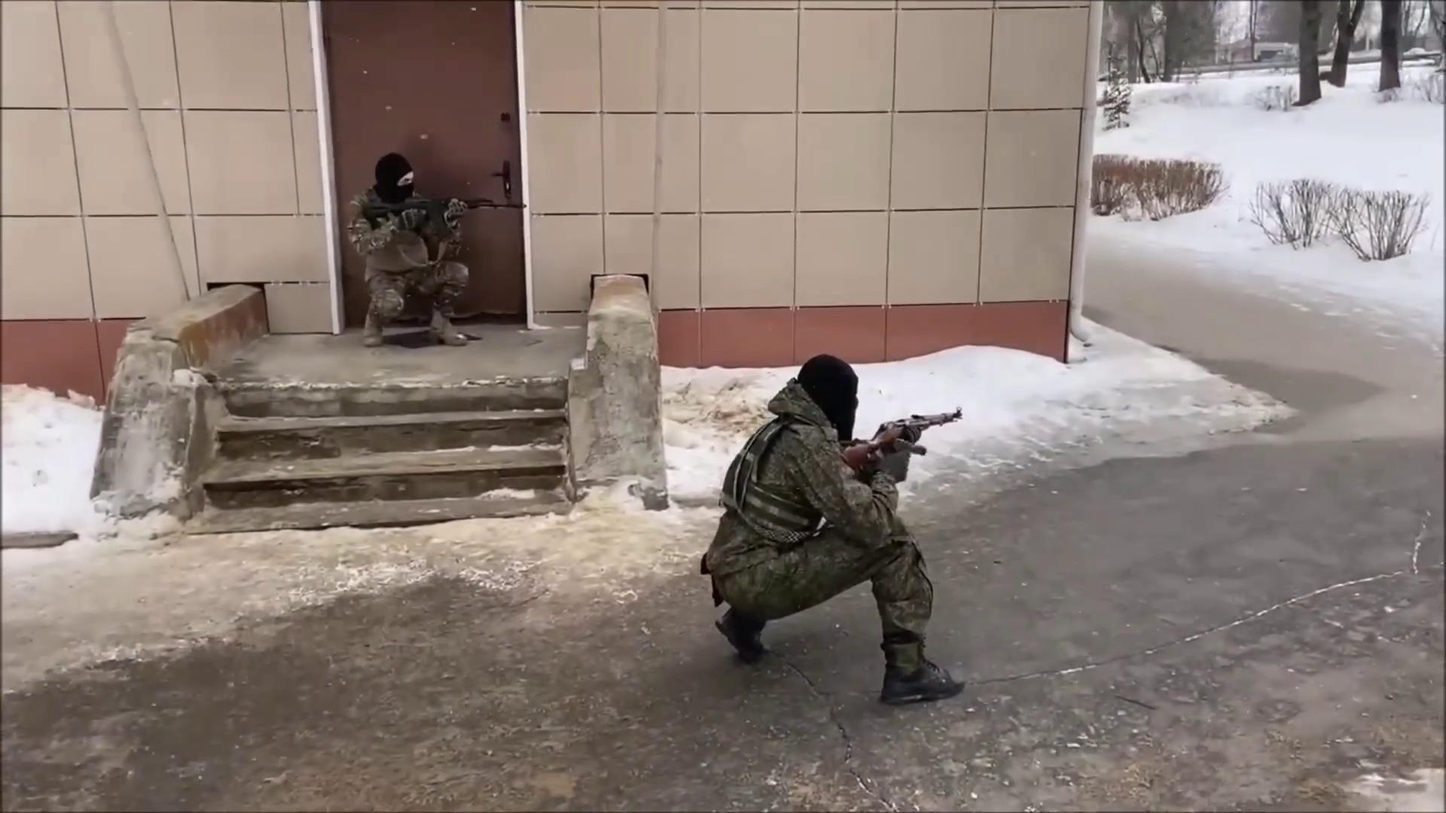person: (699, 352, 969, 707), (345, 151, 473, 348)
rifle: (837, 404, 965, 474)
